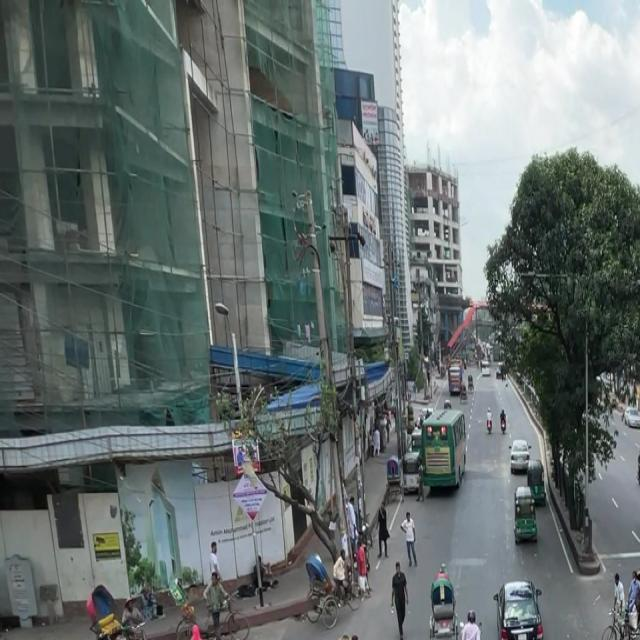car: (491, 568, 551, 640), (507, 438, 536, 484)
motorbike: (455, 604, 487, 640), (85, 635, 171, 640)
rickshaw: (507, 478, 543, 552)
